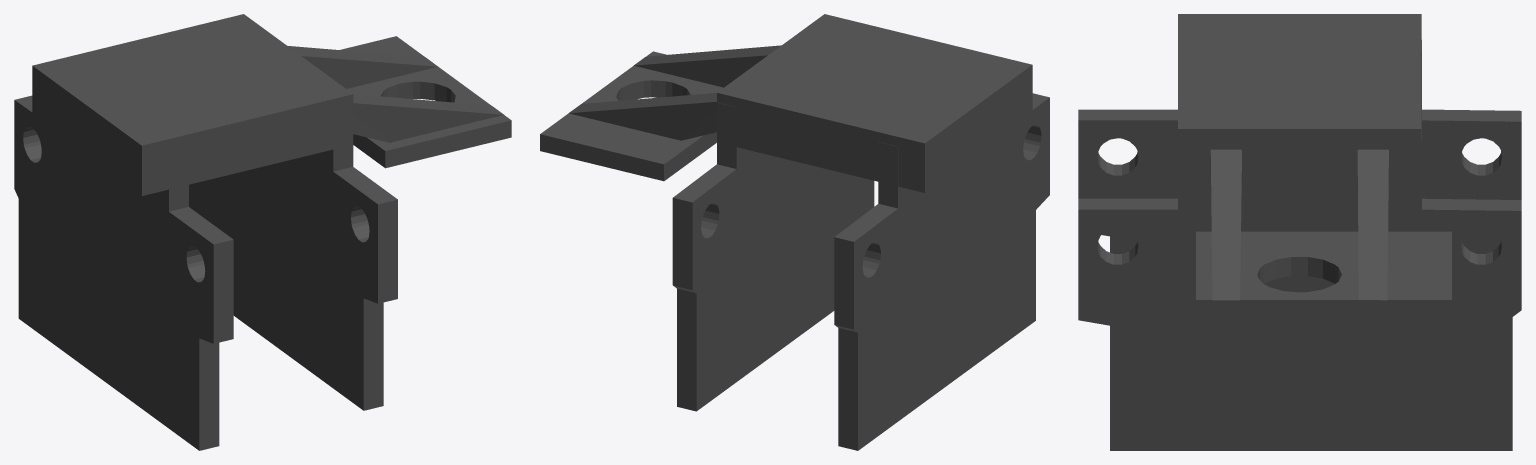
The model's file is palm_light.dae.
3 views of the same model, side by side, from view 1: azimuth 30°, elevation 25°; view 2: azimuth 150°, elevation 25°; view 3: azimuth 270°, elevation 25° (orthographic). The views are drawn at different scales.
Visible parts, largest first — view 1: Palm; view 2: Palm; view 3: Palm.
Part boxes in pixels (x1,y1,x2,y2): Palm: (14,14,511,450); Palm: (540,14,1049,450); Palm: (1078,14,1521,450).
Bounding box in the file's own units: 0.0654 × 0.0597 × 0.0479.
1 material, 1 textured.
